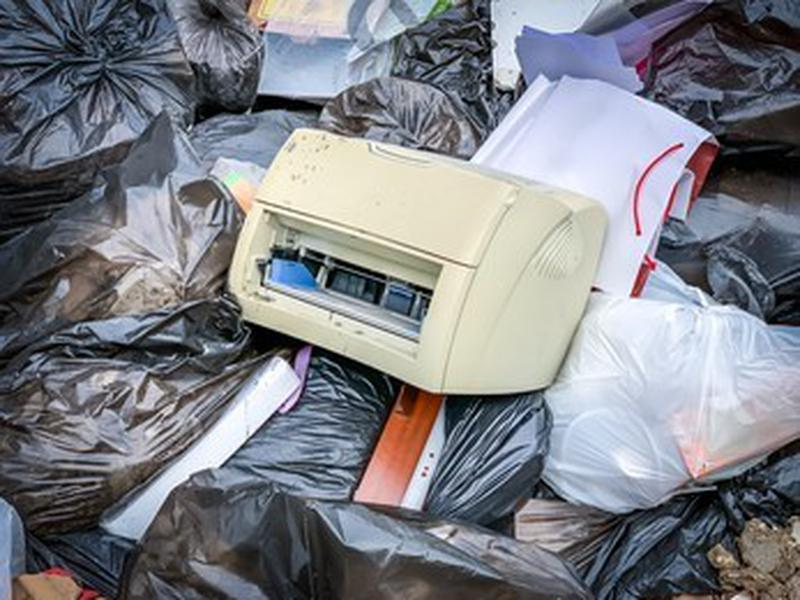plastic: (1, 2, 275, 240), (114, 466, 599, 600), (1, 286, 249, 520), (546, 294, 800, 522)
printer: (214, 124, 612, 403)
